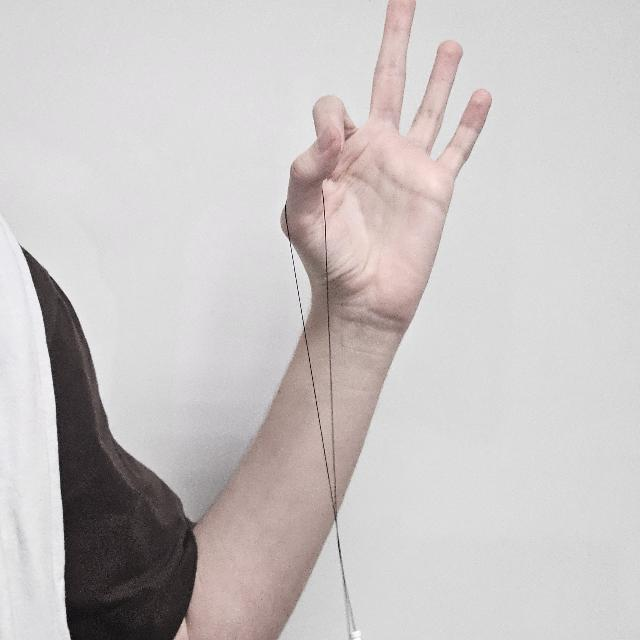Bolinha: (276, 1, 507, 356)
